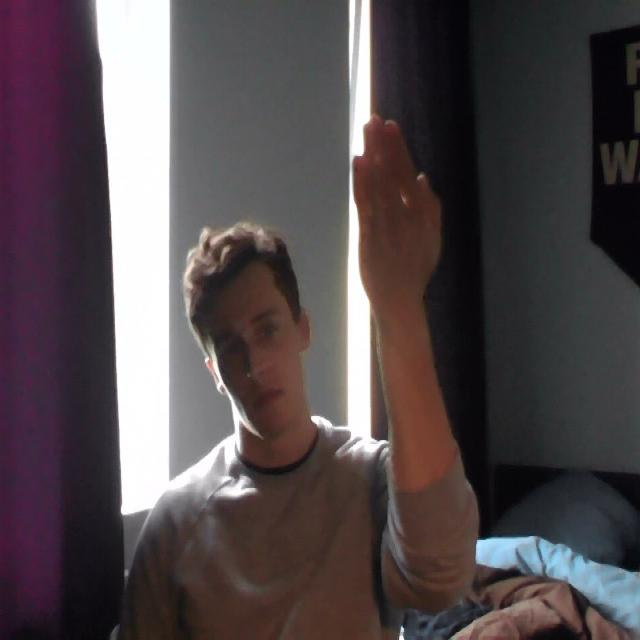forward: (336, 96, 455, 312)
